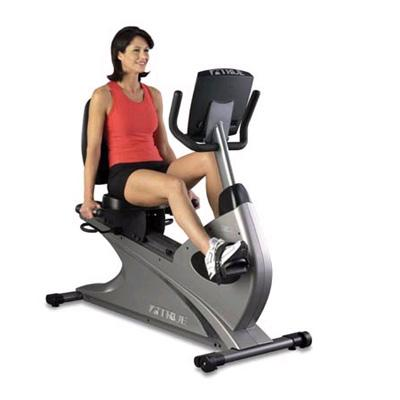gym_bike: (54, 65, 319, 375)
